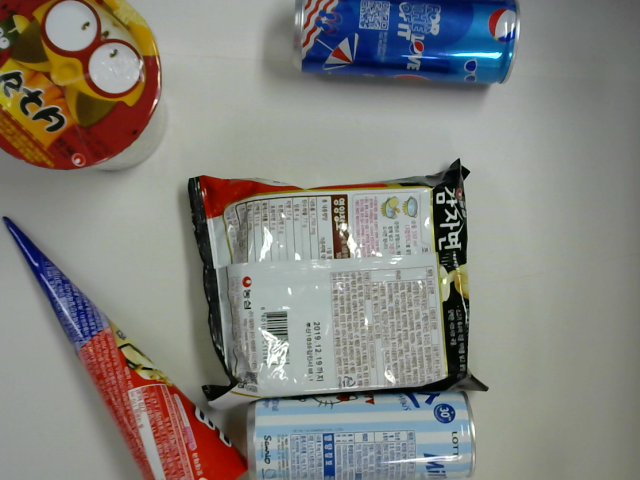Milkies_250ml: (244, 389, 489, 480)
Pepsi_Cola_Can_250ml: (286, 1, 528, 85)
Potato: (194, 161, 468, 398)
Raccoon: (1, 1, 170, 172)
World_Cone_Banila: (1, 217, 255, 480)
